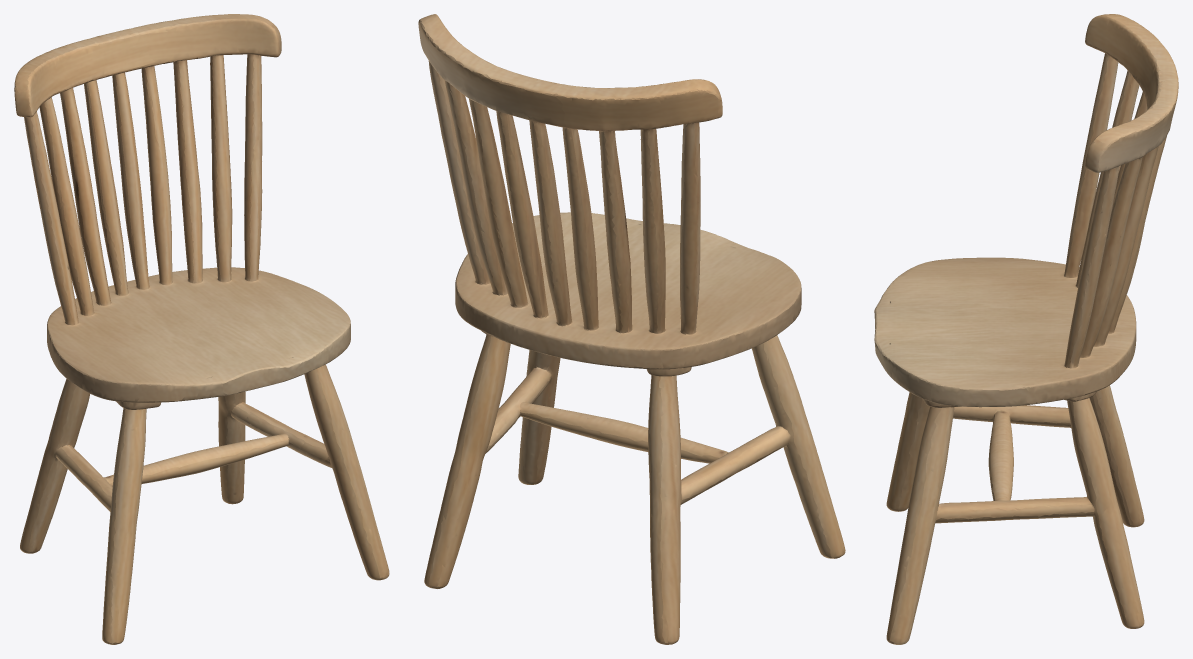
File: item_a92f8b43.glb
The picture shows the model from 3 angles, left to right: view 1: azimuth 30°, elevation 25°; view 2: azimuth 150°, elevation 25°; view 3: azimuth 270°, elevation 25°; orthographic projection. The views are drawn at different scales.
Visible parts, largest first — view 1: world; view 2: world; view 3: world.
Part boxes in pixels (left/top/right/bottom): world: left=14, top=14, right=389, bottom=644; world: left=418, top=14, right=845, bottom=644; world: left=874, top=14, right=1178, bottom=644.
Bounding box in the file's own units: 0.5004 × 0.82 × 0.4503.
1 material, 1 textured.
